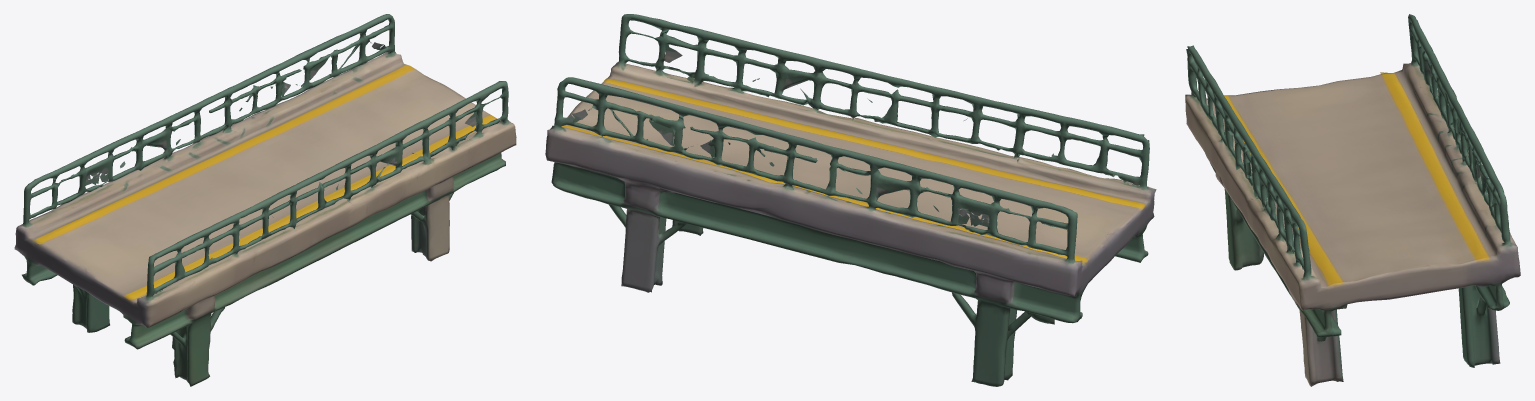
File: tripo_convert_dac8f8a2-02f8-4e8c-ae37-2e9979a50bea.glb
The picture shows the model from 3 angles, left to right: view 1: azimuth 30°, elevation 25°; view 2: azimuth 150°, elevation 25°; view 3: azimuth 270°, elevation 25°; orthographic projection. The views are drawn at different scales.
Parts seen in each view (by area): view 1: tripo_node_dac8f8a2-02f8-4e8c-ae37-2e9979a50bea; view 2: tripo_node_dac8f8a2-02f8-4e8c-ae37-2e9979a50bea; view 3: tripo_node_dac8f8a2-02f8-4e8c-ae37-2e9979a50bea.
Part boxes in pixels (box(x1,y1,x2,y2)): tripo_node_dac8f8a2-02f8-4e8c-ae37-2e9979a50bea: box(14, 14, 516, 386); tripo_node_dac8f8a2-02f8-4e8c-ae37-2e9979a50bea: box(545, 14, 1156, 386); tripo_node_dac8f8a2-02f8-4e8c-ae37-2e9979a50bea: box(1185, 14, 1520, 386).
Size of the model in its own units: 0.9992 by 0.453 by 0.5445.
Materials: 1 (1 with a texture image).
